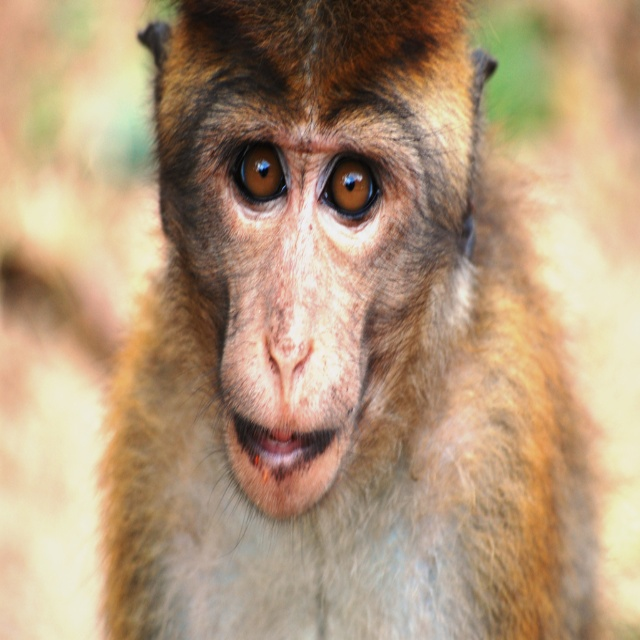Monkey: (91, 0, 618, 640)
